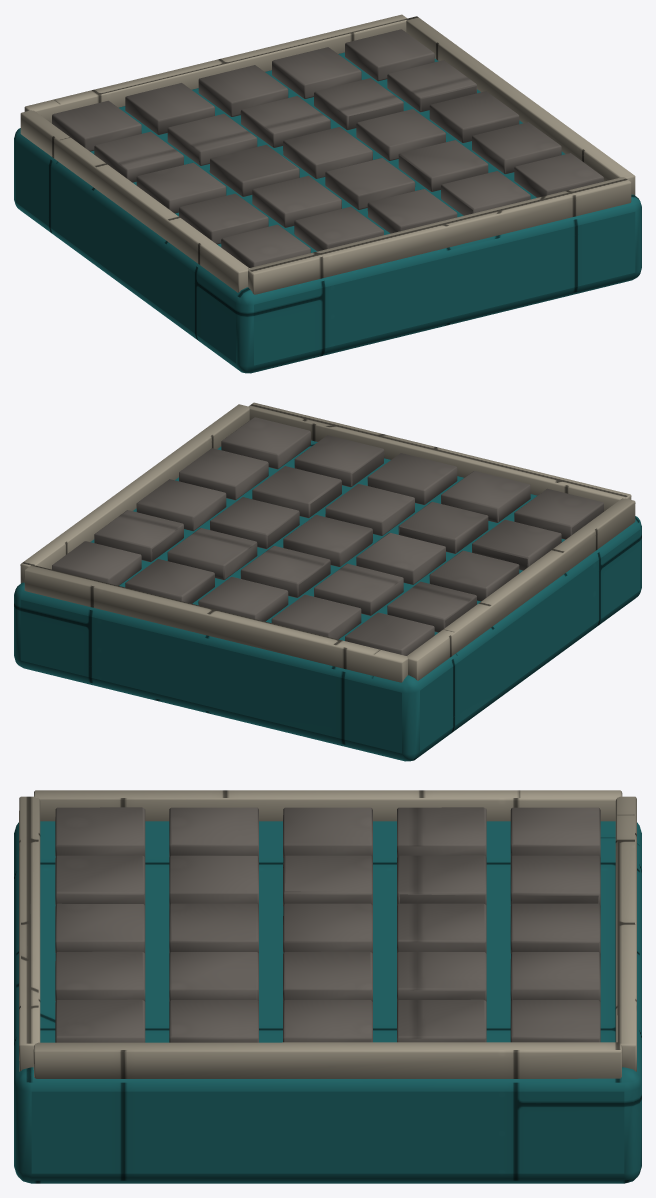
File: ops_phased_array_tile_lod1.glb
3 views of the same model, one above another, from view 1: azimuth 30°, elevation 25°; view 2: azimuth 150°, elevation 25°; view 3: azimuth 270°, elevation 25° (orthographic). The views are drawn at different scales.
Parts seen in each view (by area): view 1: LOD1_Ceramic, LOD1_Armor, LOD1_Hull; view 2: LOD1_Ceramic, LOD1_Armor, LOD1_Hull; view 3: LOD1_Ceramic, LOD1_Armor, LOD1_Hull.
Part boxes in pixels (bbox=[...]): LOD1_Ceramic: bbox=[52, 29, 603, 267]; LOD1_Armor: bbox=[14, 52, 641, 373]; LOD1_Hull: bbox=[20, 14, 635, 294]; LOD1_Ceramic: bbox=[52, 417, 603, 655]; LOD1_Armor: bbox=[14, 440, 641, 761]; LOD1_Hull: bbox=[20, 402, 635, 682]; LOD1_Ceramic: bbox=[55, 807, 600, 1042]; LOD1_Armor: bbox=[14, 821, 641, 1183]; LOD1_Hull: bbox=[19, 790, 636, 1078].
Size of the model in its own units: 1.6 by 0.3842 by 1.6.
3 materials, 3 textured.
